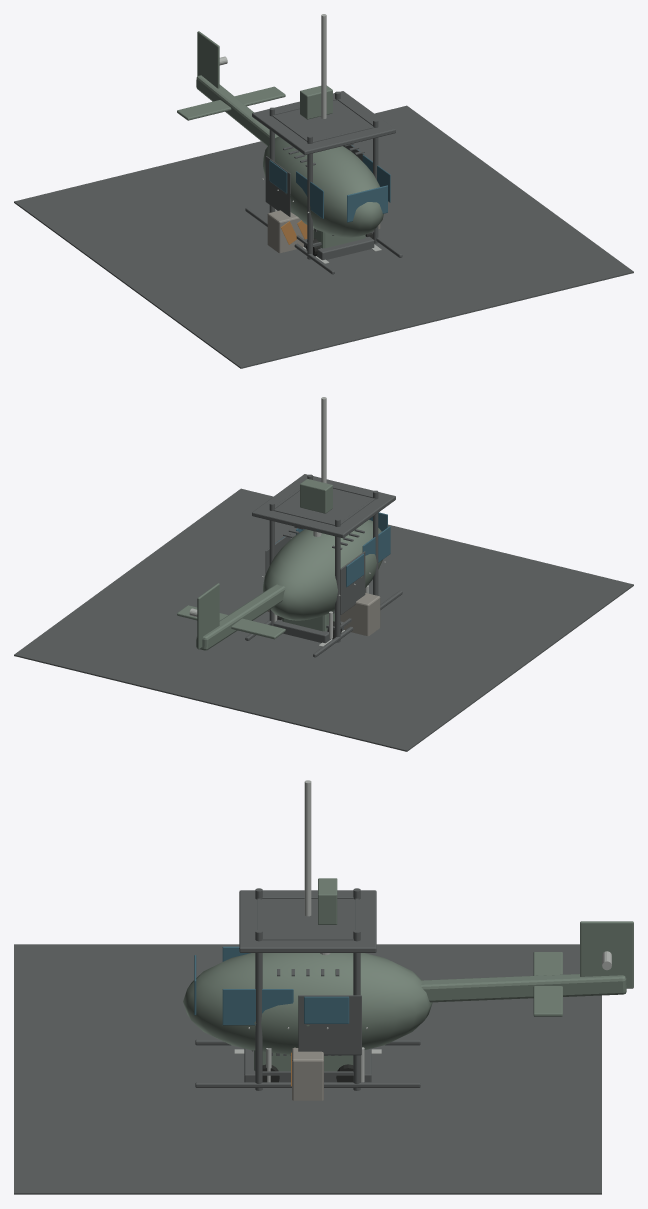
File: city-kit.glb
3 renders of one model, top to bottom at view 1: azimuth 30°, elevation 25°; view 2: azimuth 150°, elevation 25°; view 3: azimuth 270°, elevation 25°, orthographic. The views are drawn at different scales.
Visible parts, largest first — view 1: helipad, helicopter, tower, barrier, generator; view 2: helipad, helicopter, tower, barrier, generator; view 3: helipad, helicopter, tower, generator, barrier.
Part boxes in pixels (x1,y1,x2,y2): helipad: [14, 105, 633, 368]; helicopter: [177, 31, 402, 274]; tower: [252, 14, 395, 259]; barrier: [267, 210, 380, 253]; generator: [304, 228, 374, 260]; helipad: [14, 488, 633, 751]; helicopter: [177, 512, 402, 657]; tower: [252, 397, 395, 642]; barrier: [267, 593, 380, 636]; generator: [273, 611, 343, 643]; helipad: [14, 944, 601, 1194]; helicopter: [183, 921, 633, 1087]; tower: [239, 780, 376, 1090]; generator: [244, 1048, 371, 1082]; barrier: [291, 1047, 323, 1100].
Bounding box in the file's own units: 12 × 7.4 × 12.65.
